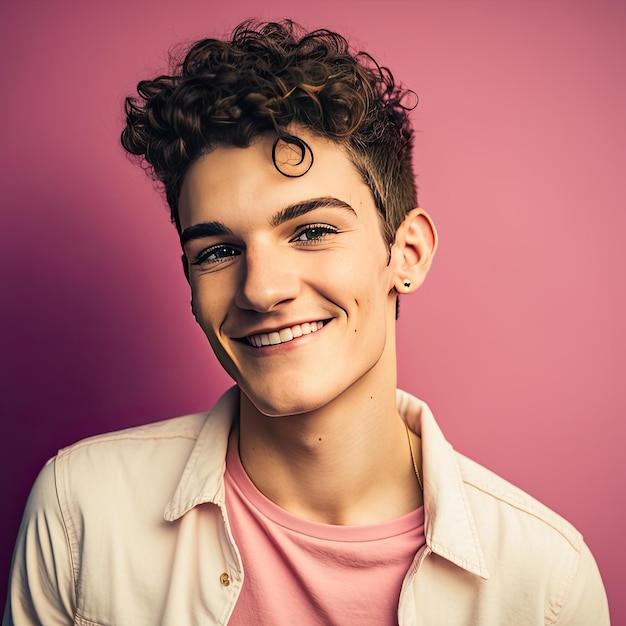teen: (136, 32, 414, 449)
